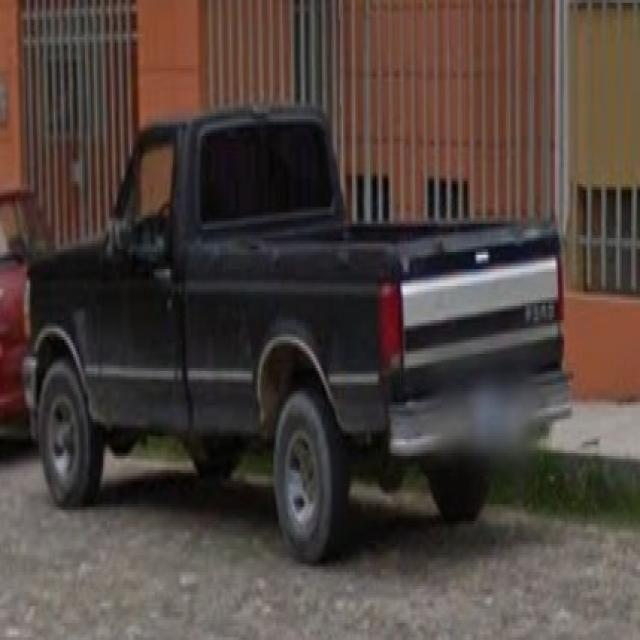cars: (36, 113, 566, 530)
